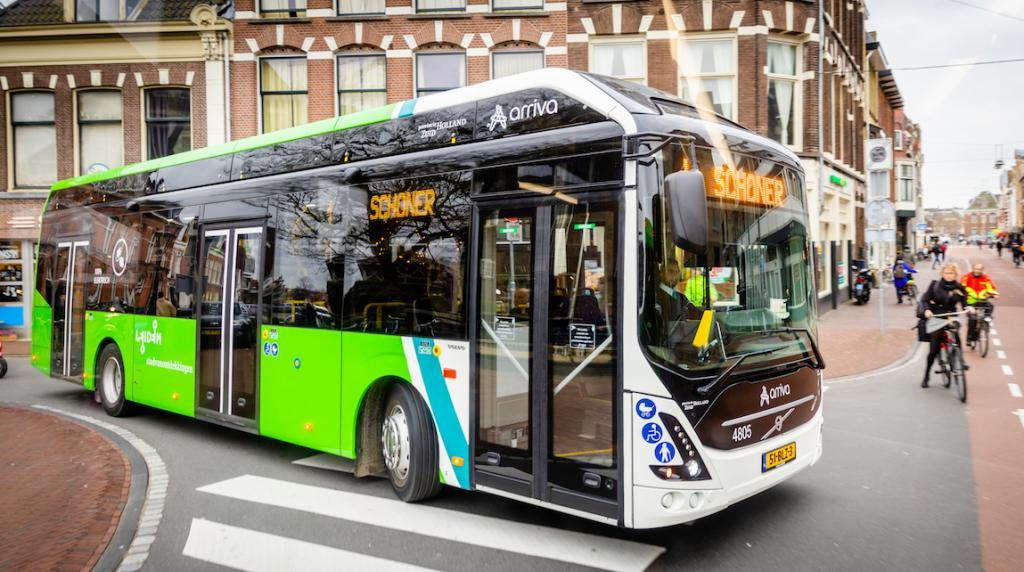Bus: (17, 69, 863, 533)
